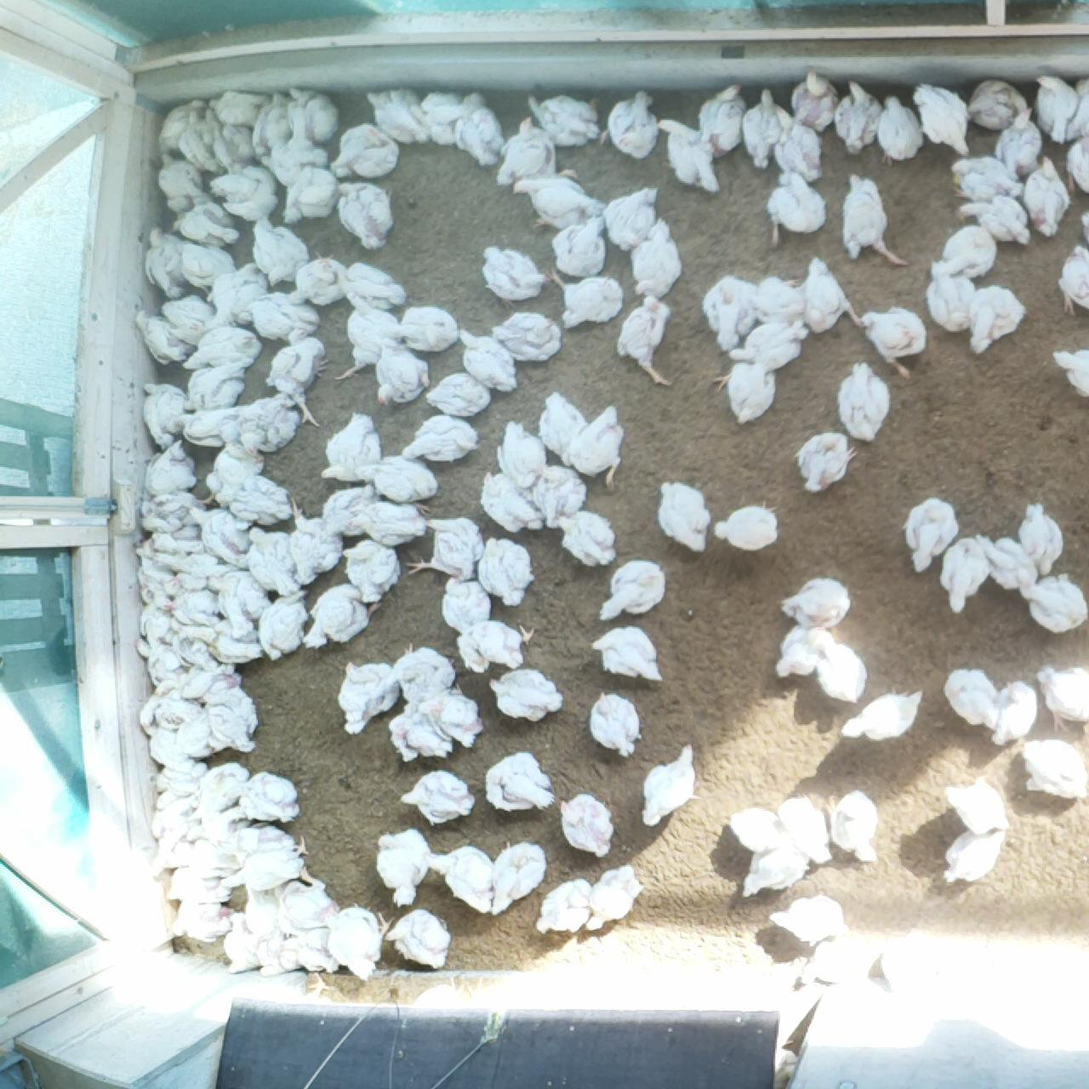chicken: (616, 281, 690, 399), (259, 315, 328, 428), (839, 163, 908, 273), (323, 291, 408, 379), (823, 357, 900, 453), (329, 649, 408, 741), (319, 896, 395, 989), (560, 399, 638, 489), (935, 182, 1034, 250), (316, 402, 393, 488), (1013, 731, 1089, 818), (302, 581, 386, 657), (657, 113, 735, 194), (796, 250, 869, 336), (210, 836, 323, 891), (640, 734, 706, 828), (448, 314, 523, 396), (476, 746, 550, 829), (542, 261, 626, 334), (402, 512, 484, 585), (793, 925, 879, 993), (372, 821, 435, 912), (912, 72, 975, 163), (583, 620, 671, 684), (475, 463, 550, 538), (858, 303, 934, 377), (911, 263, 985, 339), (823, 779, 886, 868), (839, 682, 934, 741), (428, 838, 497, 919), (765, 167, 834, 248), (624, 210, 685, 301), (596, 549, 671, 623), (938, 760, 1014, 833), (970, 529, 1046, 602), (909, 492, 972, 580), (967, 274, 1033, 358), (1019, 147, 1075, 245), (392, 764, 478, 827), (284, 497, 347, 582), (524, 84, 604, 150), (742, 84, 800, 175), (386, 904, 461, 974), (655, 472, 713, 562), (491, 837, 550, 925), (202, 154, 277, 223), (811, 626, 871, 712), (201, 678, 261, 764), (495, 404, 552, 494), (555, 790, 619, 870), (491, 114, 560, 188), (489, 668, 574, 728), (763, 885, 851, 942), (335, 177, 399, 255), (700, 272, 758, 358), (510, 159, 597, 216), (473, 528, 532, 612), (397, 411, 482, 469), (723, 316, 808, 374), (826, 77, 886, 159), (546, 509, 618, 577), (550, 210, 616, 284), (247, 211, 310, 288), (938, 661, 1006, 732), (160, 188, 239, 249), (710, 489, 783, 555), (526, 874, 600, 939), (420, 692, 495, 755), (936, 824, 1012, 886), (696, 75, 757, 151), (1019, 569, 1089, 635), (217, 474, 298, 531), (733, 843, 818, 897), (794, 428, 865, 492), (607, 86, 666, 163), (236, 386, 298, 459), (327, 127, 402, 187), (769, 617, 836, 684), (385, 701, 455, 765), (594, 185, 666, 247), (586, 860, 646, 934), (366, 82, 433, 148), (314, 471, 377, 541), (173, 322, 261, 372), (942, 532, 992, 620), (244, 519, 298, 600), (709, 358, 776, 423), (487, 303, 562, 361), (779, 788, 834, 867), (874, 918, 936, 988), (365, 450, 441, 507), (251, 276, 322, 337), (580, 690, 640, 762), (772, 110, 828, 187), (777, 571, 850, 630), (1036, 656, 1089, 737), (170, 358, 244, 416), (948, 155, 1026, 210), (140, 431, 202, 500), (537, 381, 591, 460), (275, 859, 345, 919), (873, 89, 930, 162), (485, 242, 551, 305), (178, 102, 240, 168), (167, 893, 238, 950), (341, 537, 404, 601), (1012, 495, 1064, 572), (374, 335, 432, 404), (203, 569, 272, 627), (987, 673, 1040, 748), (417, 363, 492, 416), (357, 498, 432, 551), (208, 258, 272, 320), (962, 67, 1031, 124), (285, 77, 339, 149), (289, 247, 356, 305), (413, 81, 465, 155), (249, 90, 298, 168), (392, 298, 460, 354), (933, 224, 1001, 280), (169, 404, 253, 449), (791, 63, 846, 131), (182, 620, 271, 662), (986, 99, 1044, 163), (132, 294, 183, 366), (134, 378, 190, 443), (468, 613, 535, 667), (140, 224, 193, 292), (453, 88, 503, 160), (153, 143, 212, 204), (441, 569, 497, 633), (190, 505, 248, 566), (258, 584, 307, 656), (229, 765, 301, 813), (258, 132, 324, 184), (392, 638, 450, 697), (220, 907, 269, 976), (1054, 235, 1089, 329), (746, 267, 808, 320), (168, 568, 226, 624), (1029, 65, 1071, 141), (195, 757, 247, 818), (288, 152, 330, 227), (184, 833, 243, 886), (183, 805, 254, 849), (723, 799, 783, 851), (339, 258, 406, 303), (544, 466, 596, 522), (172, 230, 227, 282), (139, 483, 201, 529), (1049, 331, 1089, 402), (289, 923, 337, 982), (161, 288, 222, 332), (203, 439, 261, 485), (131, 536, 173, 599), (157, 93, 212, 140), (145, 786, 201, 832), (150, 526, 212, 567), (226, 821, 302, 853), (141, 720, 189, 770), (238, 885, 282, 939), (137, 687, 206, 721), (131, 637, 182, 682), (205, 81, 262, 121), (178, 664, 242, 699), (152, 837, 202, 881), (1056, 129, 1089, 191), (149, 753, 208, 787), (175, 720, 221, 762), (258, 925, 299, 972), (134, 599, 168, 646), (456, 626, 489, 674), (1067, 76, 1089, 142)
